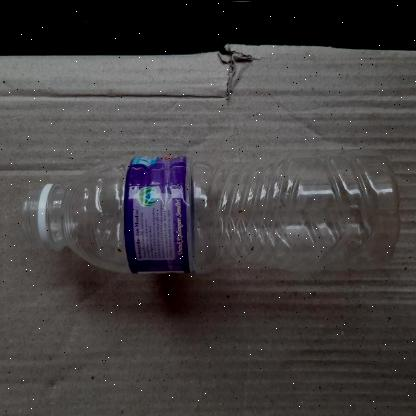Plastic Bottle: (21, 152, 398, 272)
